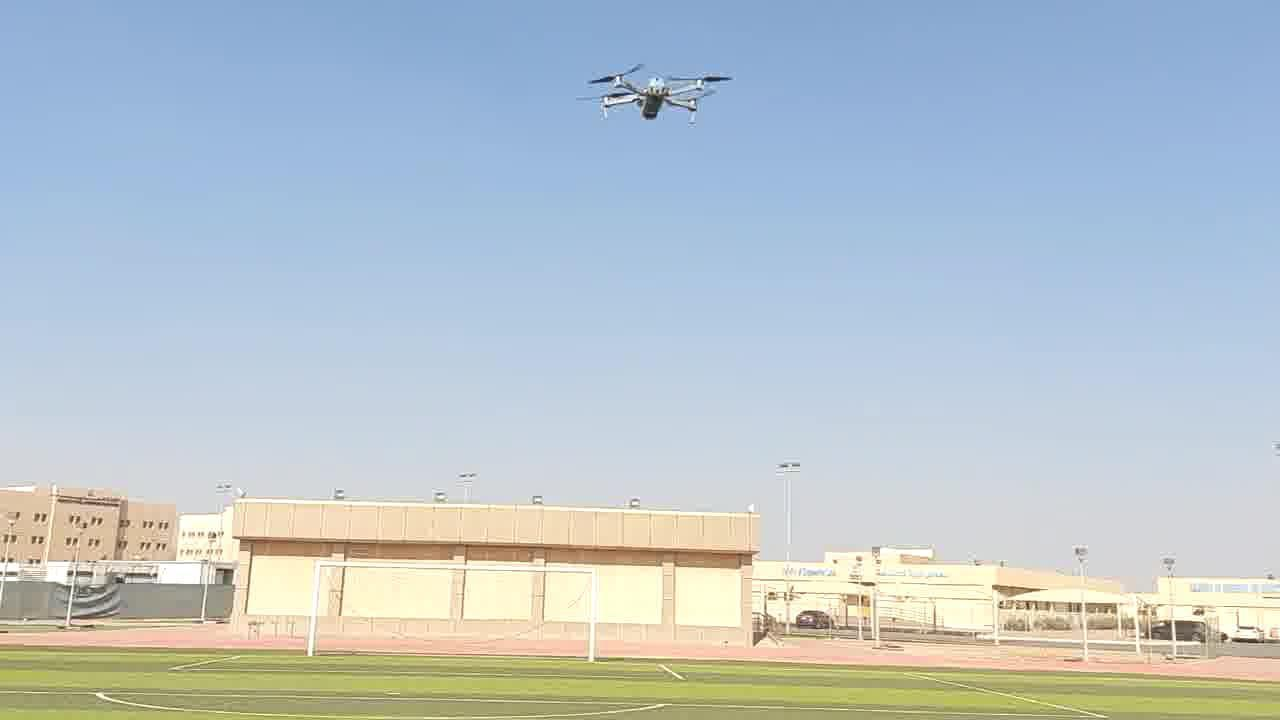drone: (576, 63, 739, 125)
